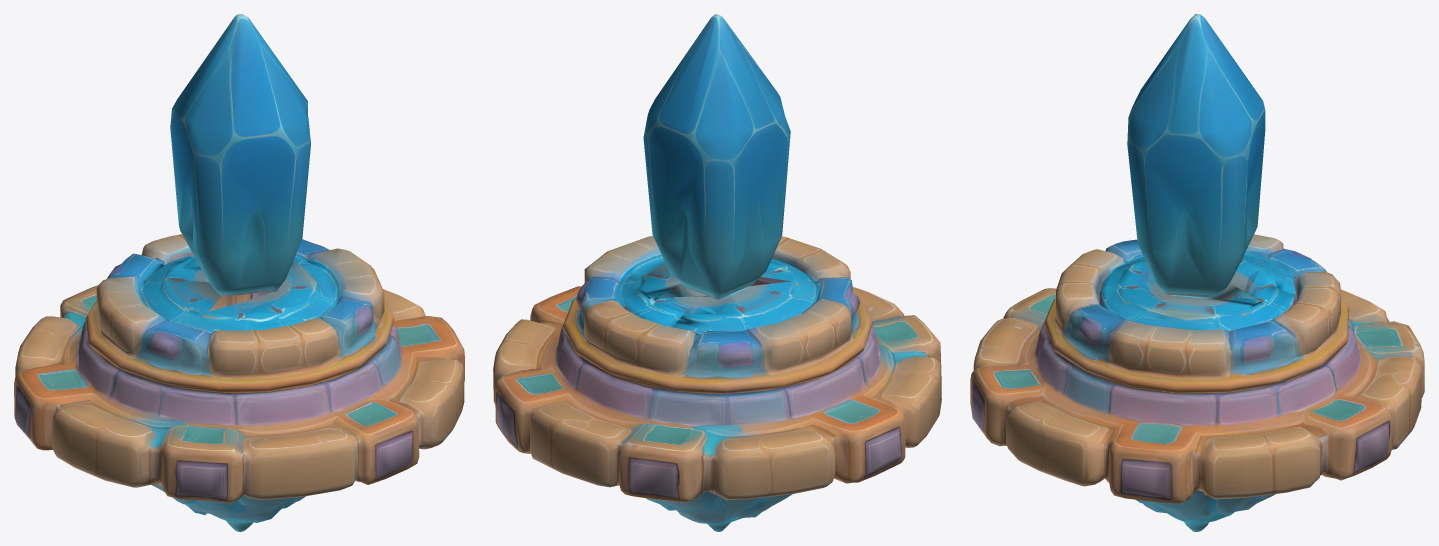
Rendered from 03-garden-crystal-shrine.glb.
3 renders of one model, left to right at view 1: azimuth 30°, elevation 25°; view 2: azimuth 150°, elevation 25°; view 3: azimuth 270°, elevation 25°, orthographic.
Parts seen in each view (by area): view 1: tripo_node_a104c581; view 2: tripo_node_a104c581; view 3: tripo_node_a104c581.
Boxes of the visible parts, x1=… form: tripo_node_a104c581: x1=14, y1=14, x2=464, y2=531; tripo_node_a104c581: x1=493, y1=14, x2=941, y2=531; tripo_node_a104c581: x1=970, y1=14, x2=1424, y2=531.
Bounding box in the file's own units: 0.1609 × 0.2 × 0.1597.
Materials: 1 (1 with a texture image).
